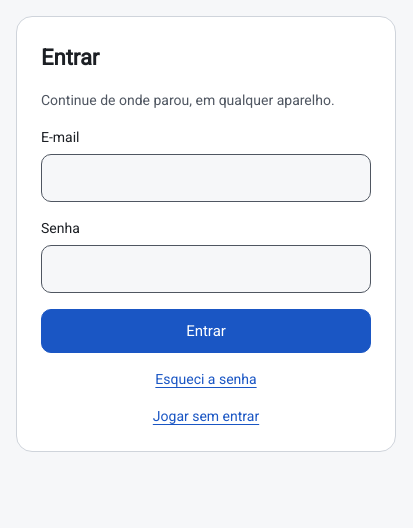
Test: LoginPage › mostra o tempo de espera do Retry-After em 429
Type "ana@exemplo.com" into the field labelled "E-mail".
click(206, 178); type("ana@exemplo.com")  # box [41,154,371,202]
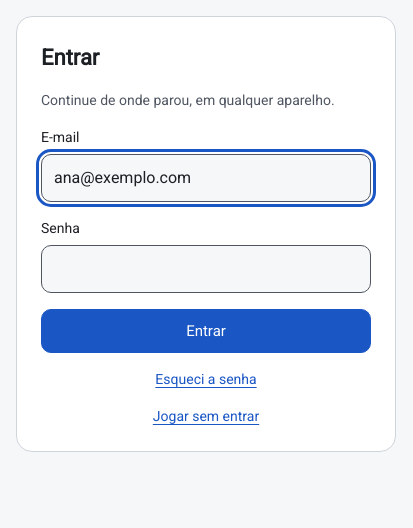
Type "segredo123" into the password field labelled "Senha".
click(206, 269); type("segredo123")  # box [41,245,371,293]
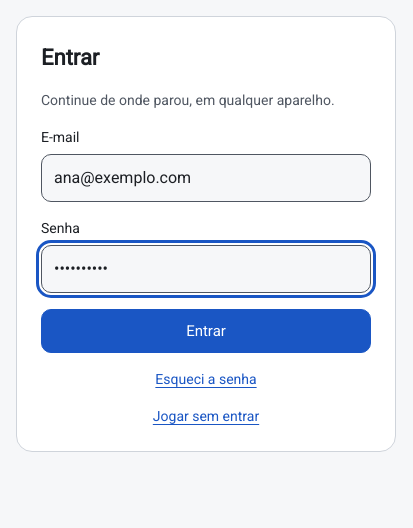
Click the button "Entrar".
click(206, 331)  # box [41,309,371,353]
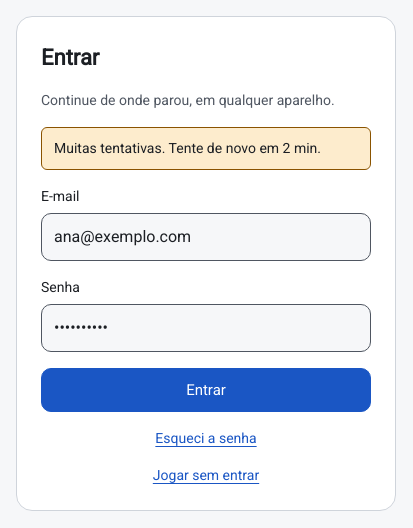
Now the message reads "Muitas tentativas. Tente de novo em 2 min.", box [54,140,321,156]
